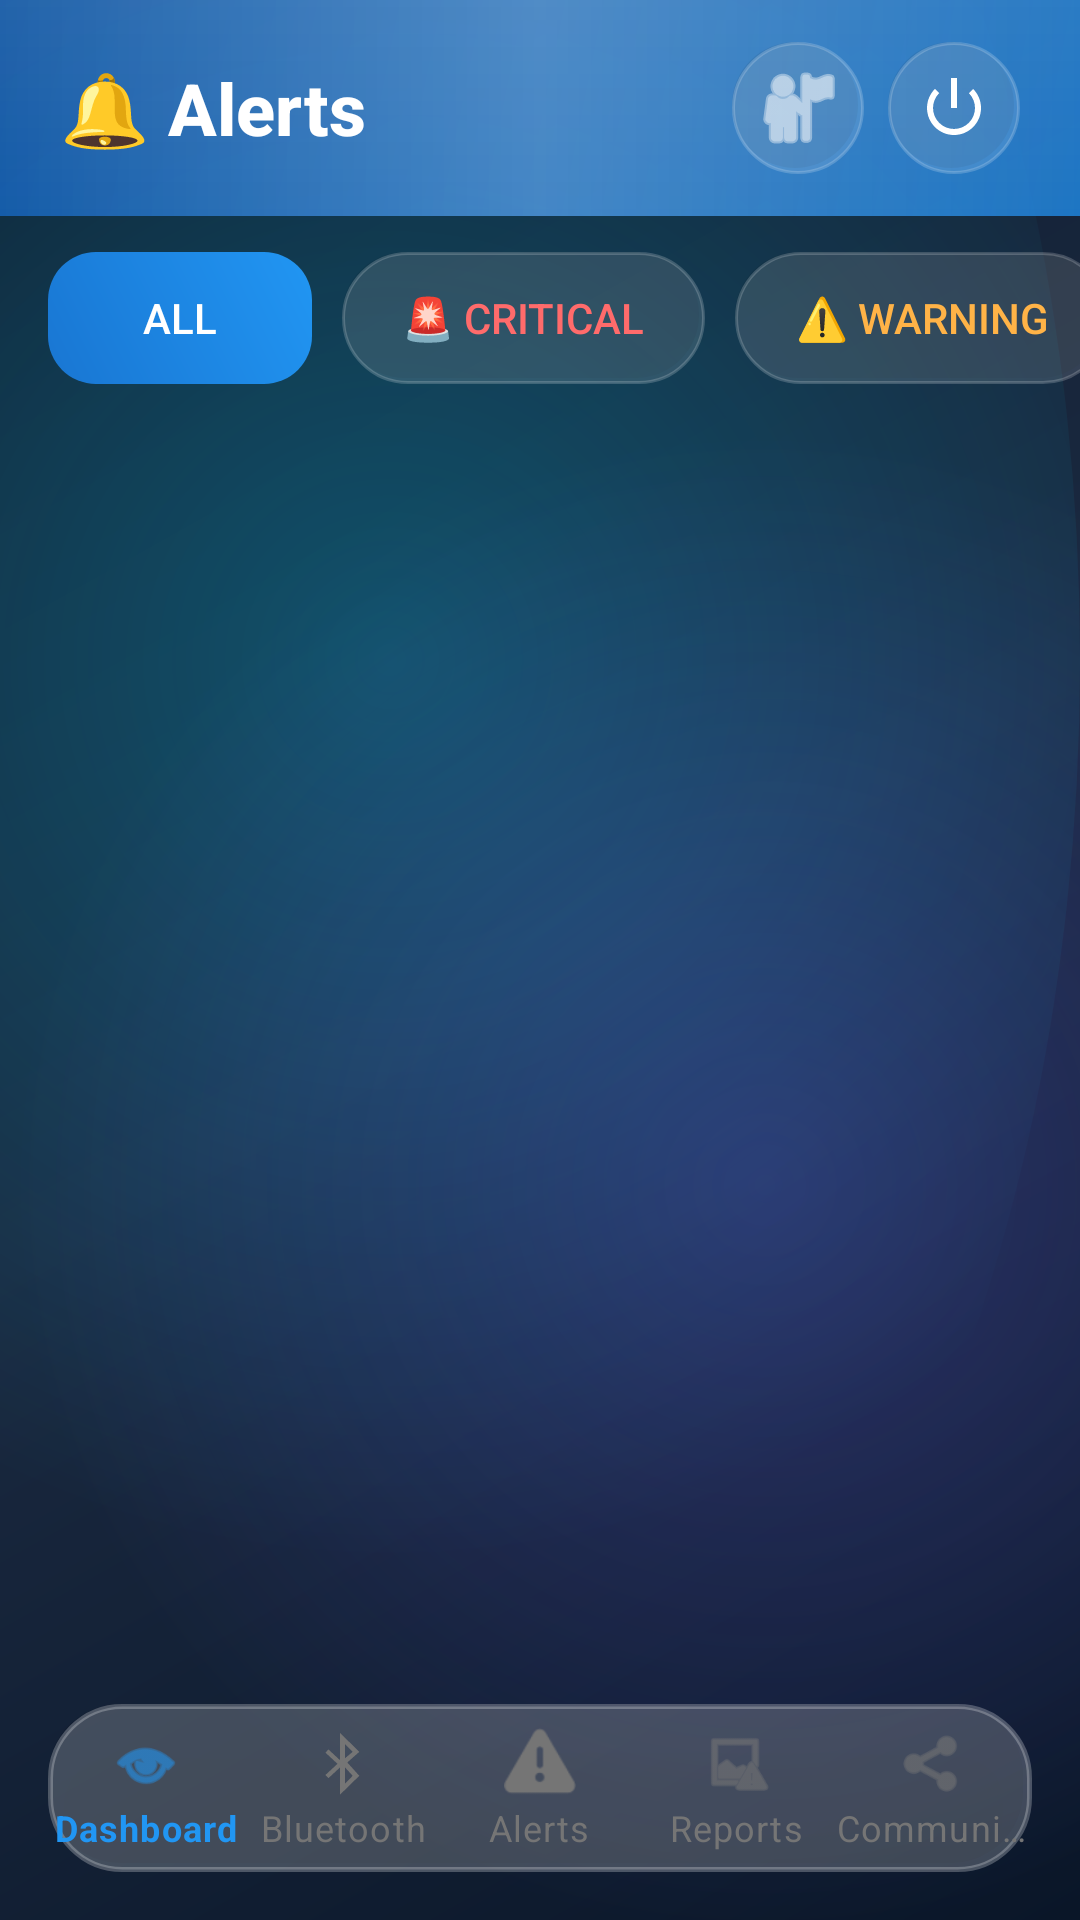

Named icons in this screenshot (1080w x 1920h) and their centers, [x,y]:
Profile: [798,108]
